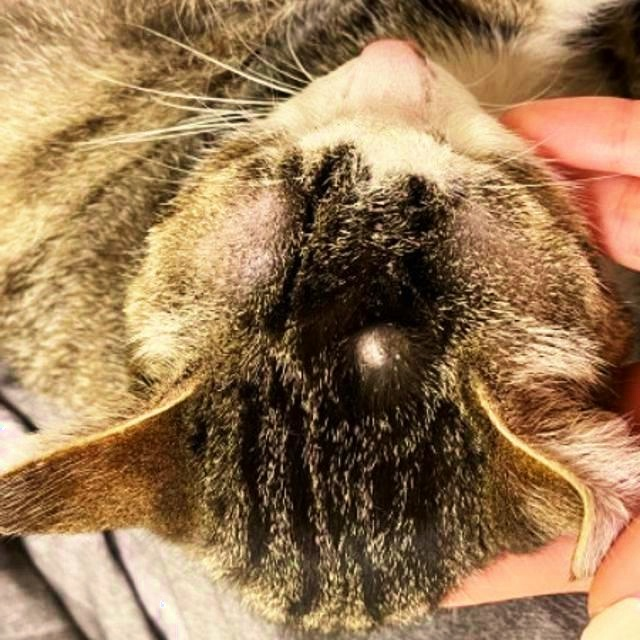lump_and_bump: (347, 323, 398, 371)
